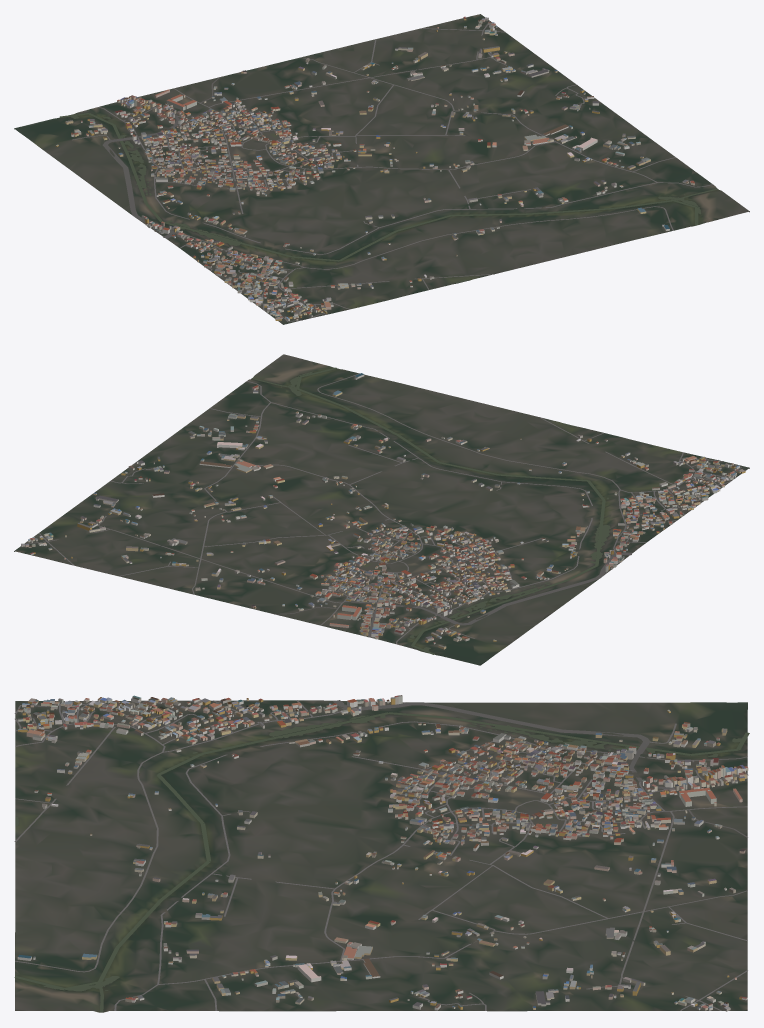
The picture shows the model from 3 angles, top to bottom: view 1: azimuth 30°, elevation 25°; view 2: azimuth 150°, elevation 25°; view 3: azimuth 270°, elevation 25°; orthographic projection. The views are drawn at different scales.
Parts seen in each view (by area): view 1: ground, buildings, roads, water; view 2: ground, buildings, roads, water; view 3: ground, buildings, roads, water.
Boxes of the visible parts, bbox=[...] form: ground: bbox=[14, 14, 749, 324]; buildings: bbox=[55, 16, 694, 320]; roads: bbox=[72, 21, 712, 321]; water: bbox=[60, 113, 718, 283]; ground: bbox=[14, 354, 749, 665]; buildings: bbox=[21, 373, 745, 649]; roads: bbox=[24, 373, 741, 644]; water: bbox=[251, 367, 610, 654]; ground: bbox=[15, 700, 747, 1012]; buildings: bbox=[17, 695, 748, 1011]; roads: bbox=[14, 700, 748, 1010]; water: bbox=[14, 712, 749, 1012].
Bounding box in the file's own units: 1410 × 27.96 × 1409.
